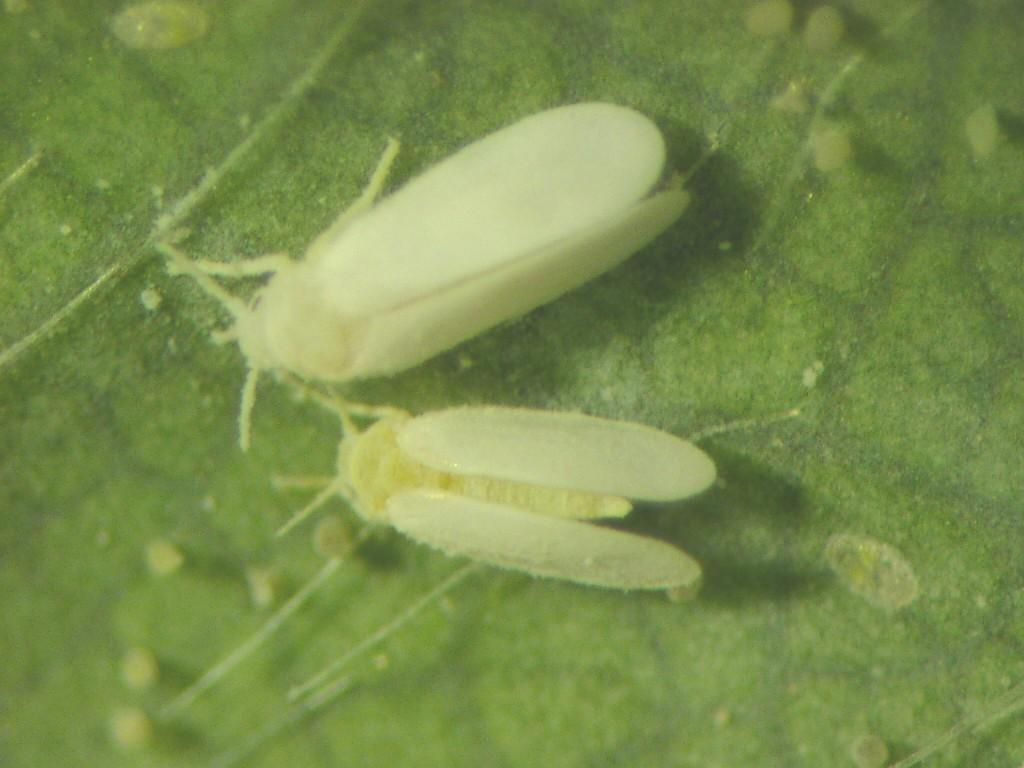whitefly: (163, 98, 685, 429), (272, 368, 709, 602)
